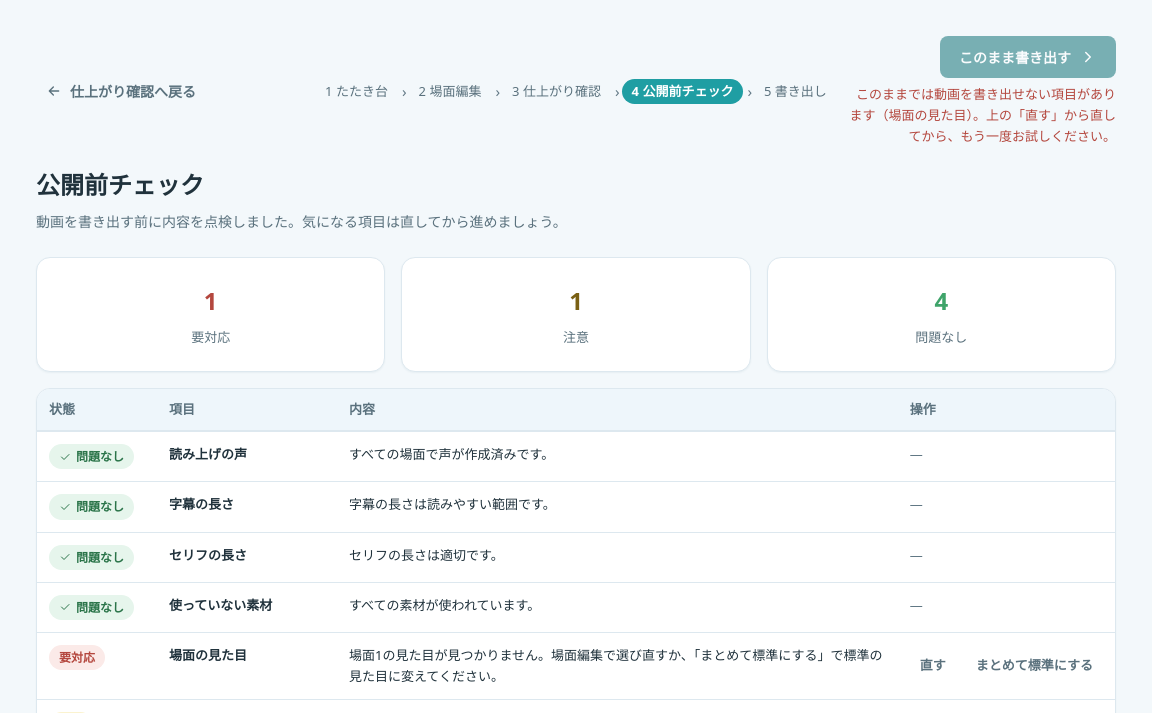
Test case: PrecheckScreen 書き出しを止める項目では主ボタンを押せない（#547 P2-5） › 「まとめて標準にする」で見た目欠けが解消し、書き出せるようになる
Expected: the button "このまま書き出す" is disabled, left=940, top=36, right=1116, bottom=78
Click the button "まとめて標準にする" at (1034, 664), box left=966, top=645, right=1103, bottom=684
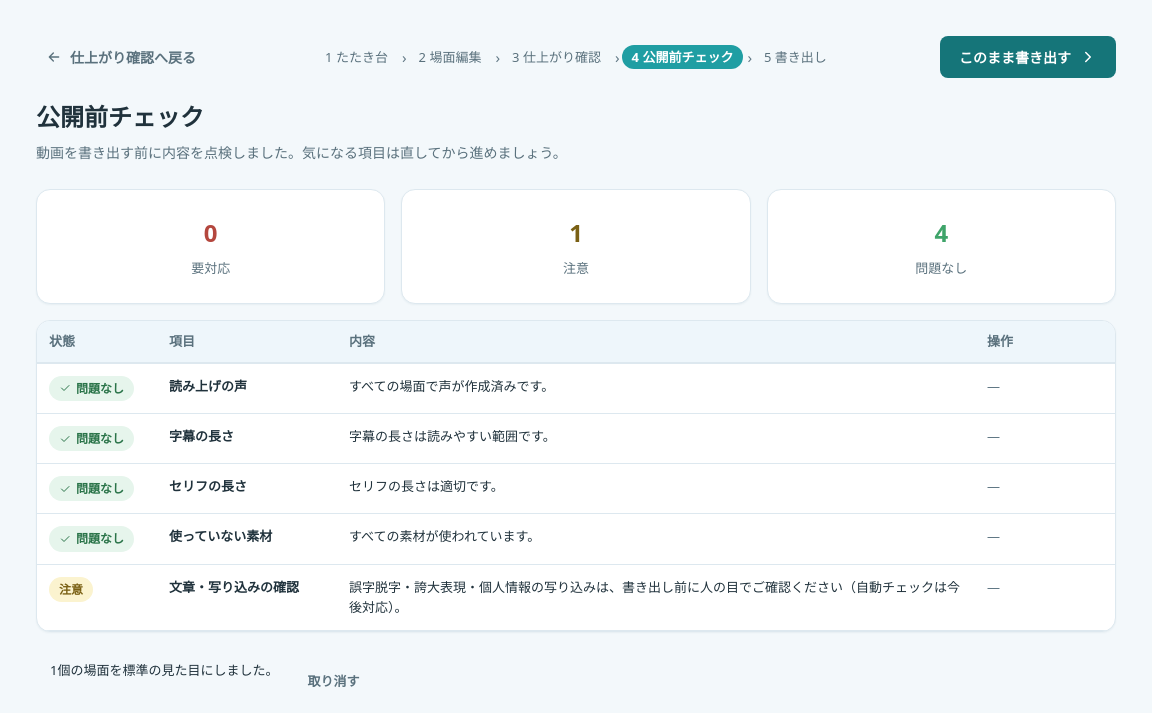
Now the button "このまま書き出す" is enabled, box left=940, top=36, right=1116, bottom=78
Now the text "動画を書き出せない項目があります" is gone
